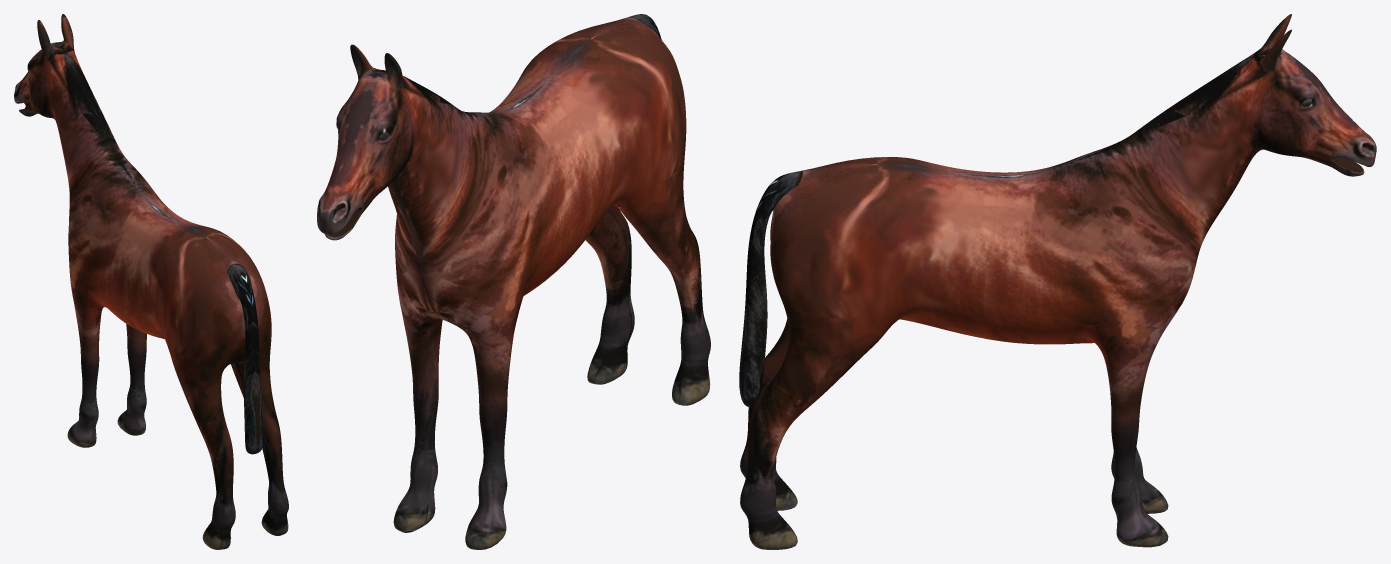
File: Horse.obj
3 views of the same model, side by side, from view 1: azimuth 30°, elevation 25°; view 2: azimuth 150°, elevation 25°; view 3: azimuth 270°, elevation 25° (orthographic). The views are drawn at different scales.
Visible parts, largest first — view 1: 10026_Horse_v01-it2; view 2: 10026_Horse_v01-it2; view 3: 10026_Horse_v01-it2.
Part boxes in pixels (box(x1,y1,x2,y2)): 10026_Horse_v01-it2: box(14, 14, 288, 549); 10026_Horse_v01-it2: box(317, 14, 710, 549); 10026_Horse_v01-it2: box(739, 14, 1376, 549).
Bounding box in the file's own units: 3.38 × 14.48 × 16.56.
1 material, 1 textured.
